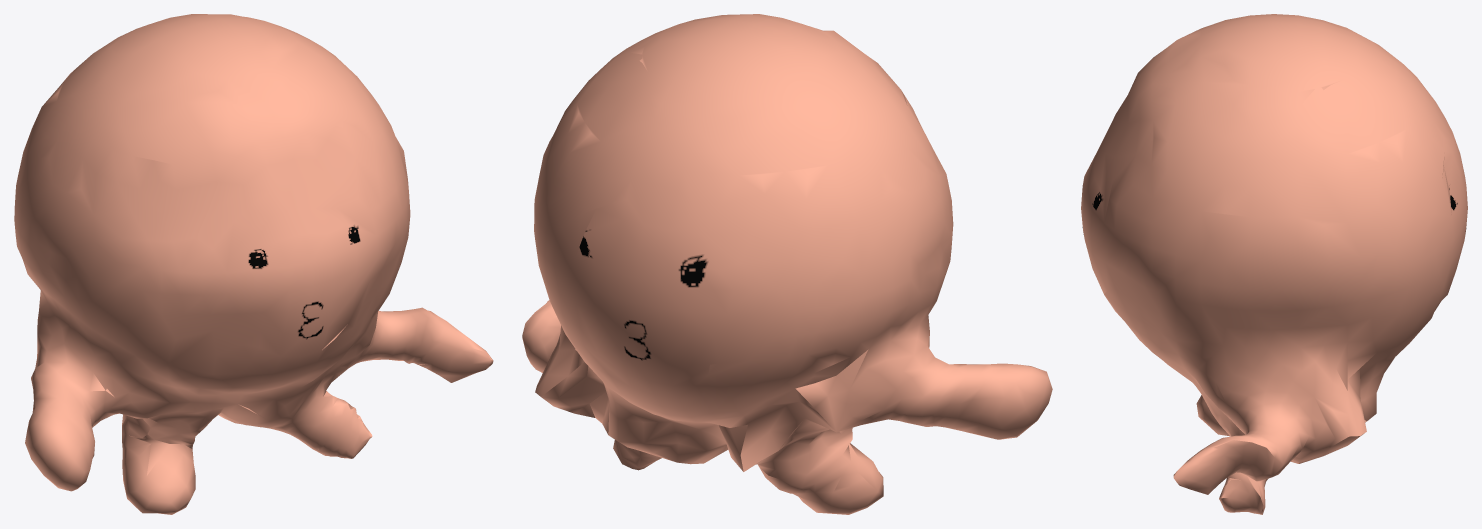
The model's file is takopi.glb.
3 renders of one model, left to right at view 1: azimuth 30°, elevation 25°; view 2: azimuth 150°, elevation 25°; view 3: azimuth 270°, elevation 25°, orthographic. The views are drawn at different scales.
Parts seen in each view (by area): view 1: obj2; view 2: obj2; view 3: obj2.
Boxes of the visible parts, x1=… form: obj2: x1=14, y1=14, x2=493, y2=514; obj2: x1=522, y1=14, x2=1052, y2=514; obj2: x1=1081, y1=14, x2=1467, y2=514.
Size of the model in its own units: 0.3006 by 0.2773 by 0.2243.
Materials: 1 (1 with a texture image).
